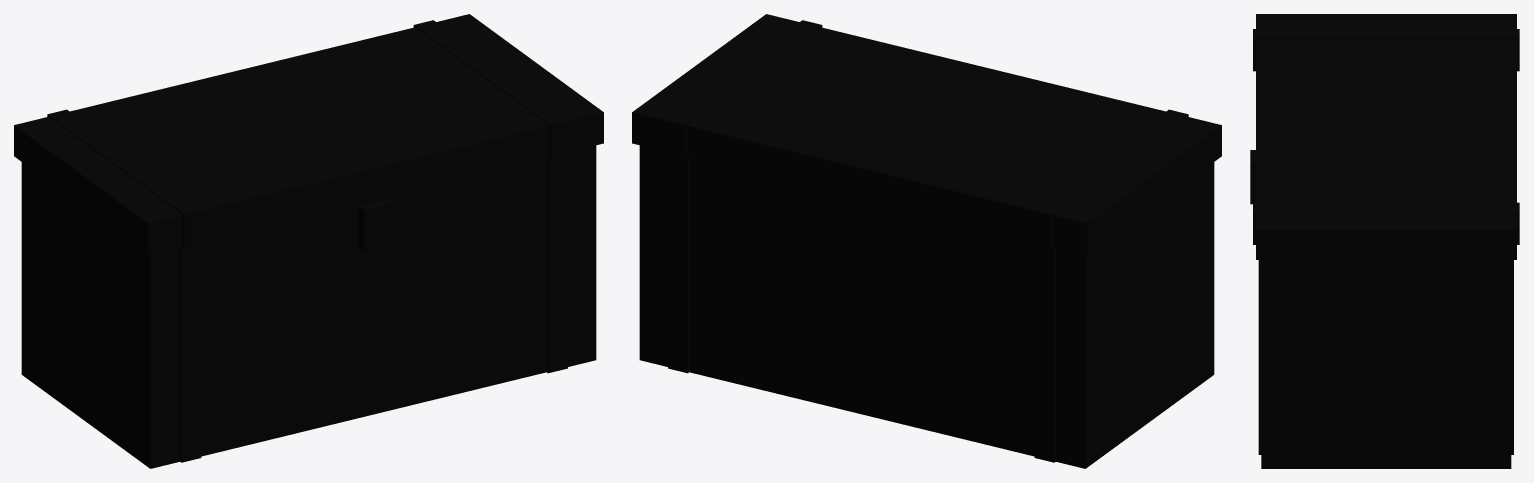
File: SM_chest_trunk.fbx
3 views of the same model, side by side, from view 1: azimuth 30°, elevation 25°; view 2: azimuth 150°, elevation 25°; view 3: azimuth 270°, elevation 25° (orthographic). The views are drawn at different scales.
Visible parts, largest first — view 1: chest_trunk, chest_trunk_lid; view 2: chest_trunk, chest_trunk_lid; view 3: chest_trunk_lid, chest_trunk.
Part boxes in pixels (left/top/right/bottom): chest_trunk: left=21, top=145, right=596, bottom=468; chest_trunk_lid: left=14, top=14, right=603, bottom=254; chest_trunk: left=639, top=145, right=1214, bottom=468; chest_trunk_lid: left=632, top=14, right=1221, bottom=254; chest_trunk_lid: left=1253, top=14, right=1519, bottom=259; chest_trunk: left=1250, top=150, right=1513, bottom=468.
Bounding box in the file's own units: 0.92 × 0.4825 × 0.485.
